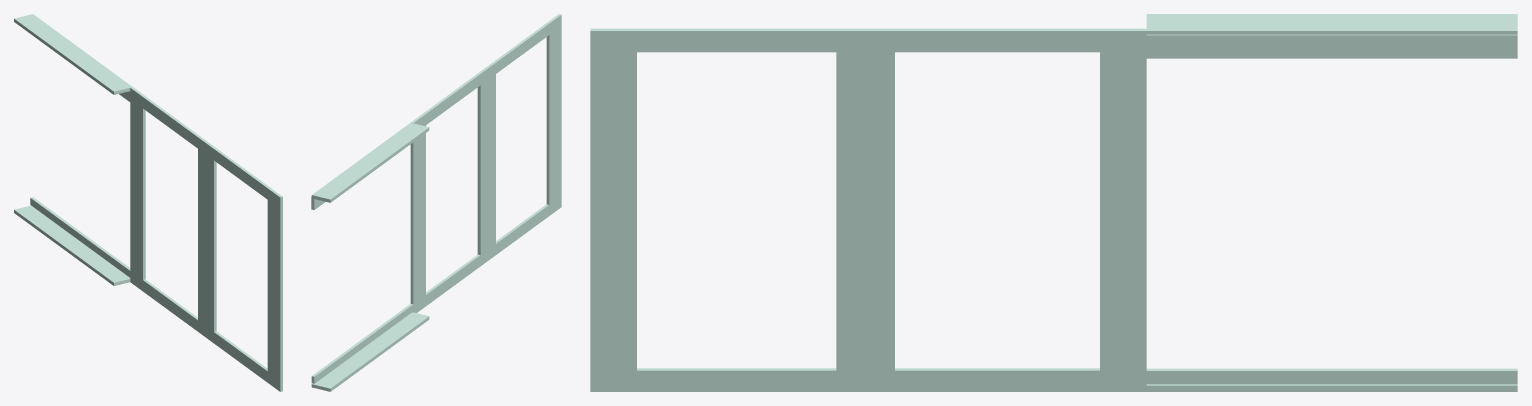
3 renders of one model, left to right at view 1: azimuth 30°, elevation 25°; view 2: azimuth 150°, elevation 25°; view 3: azimuth 270°, elevation 25°, orthographic. The views are drawn at different scales.
Parts seen in each view (by area): view 1: Renderer Node; view 2: Renderer Node; view 3: Renderer Node.
Boxes of the visible parts, x1=… form: Renderer Node: x1=14, y1=14, x2=282, y2=391; Renderer Node: x1=311, y1=14, x2=561, y2=391; Renderer Node: x1=590, y1=14, x2=1517, y2=391.
Bounding box in the file's own units: 0.1123 × 1.07 × 2.5.
